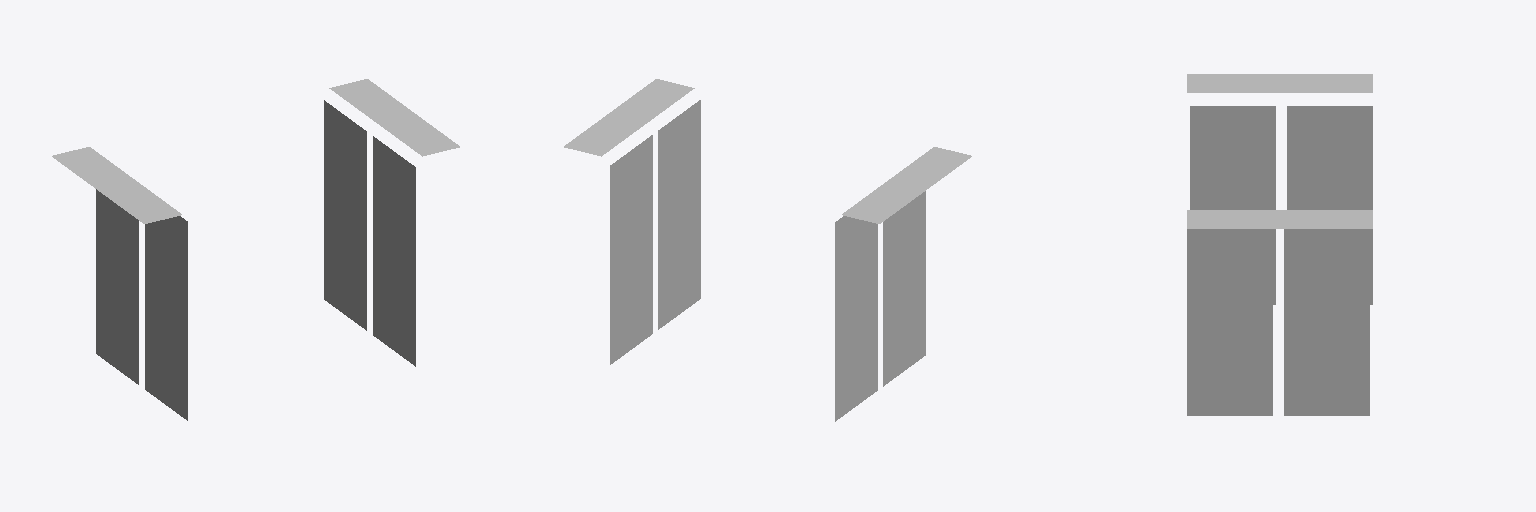
The model's file is S13_AFN_33.OBJ.
The picture shows the model from 3 angles: view 1: azimuth 30°, elevation 25°; view 2: azimuth 150°, elevation 25°; view 3: azimuth 270°, elevation 25°; orthographic projection.
Parts seen in each view (by area): view 1: s13_afn_33_0; view 2: s13_afn_33_0; view 3: s13_afn_33_0.
Part boxes in pixels (left/top/right/bottom): s13_afn_33_0: left=52, top=79, right=459, bottom=420; s13_afn_33_0: left=564, top=79, right=971, bottom=421; s13_afn_33_0: left=1187, top=74, right=1372, bottom=415.
Bounding box in the file's own units: 450 × 283 × 230.